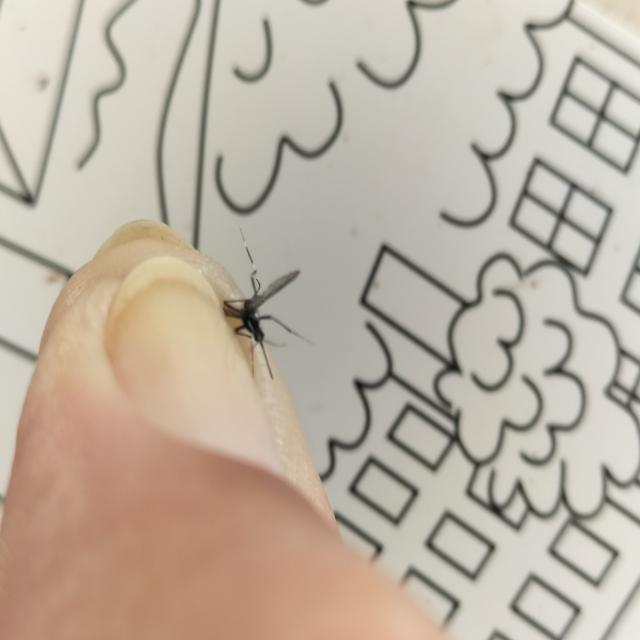albopictus: (212, 210, 315, 384)
